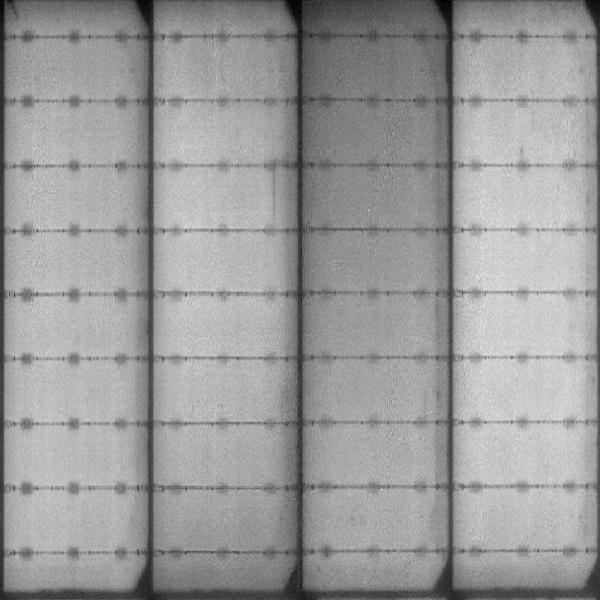scratch: (6, 1, 28, 22)
